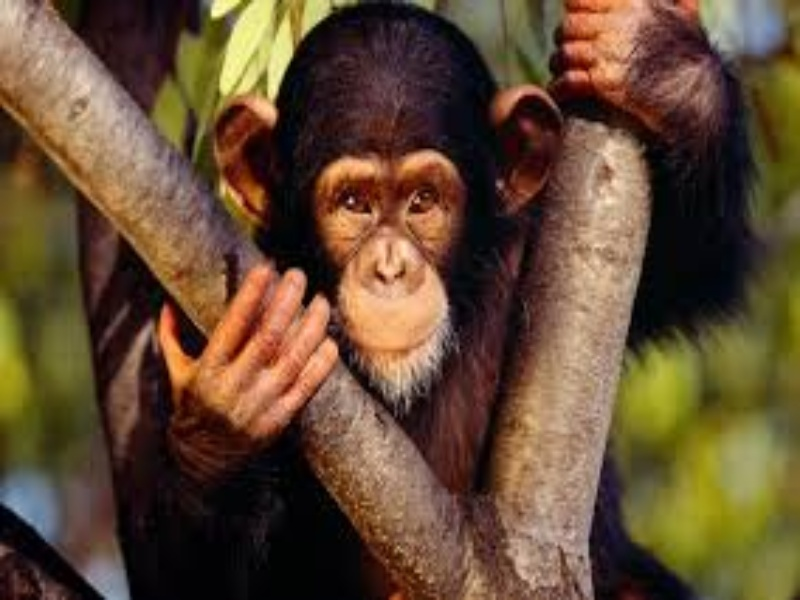monkey: (111, 1, 669, 557)
